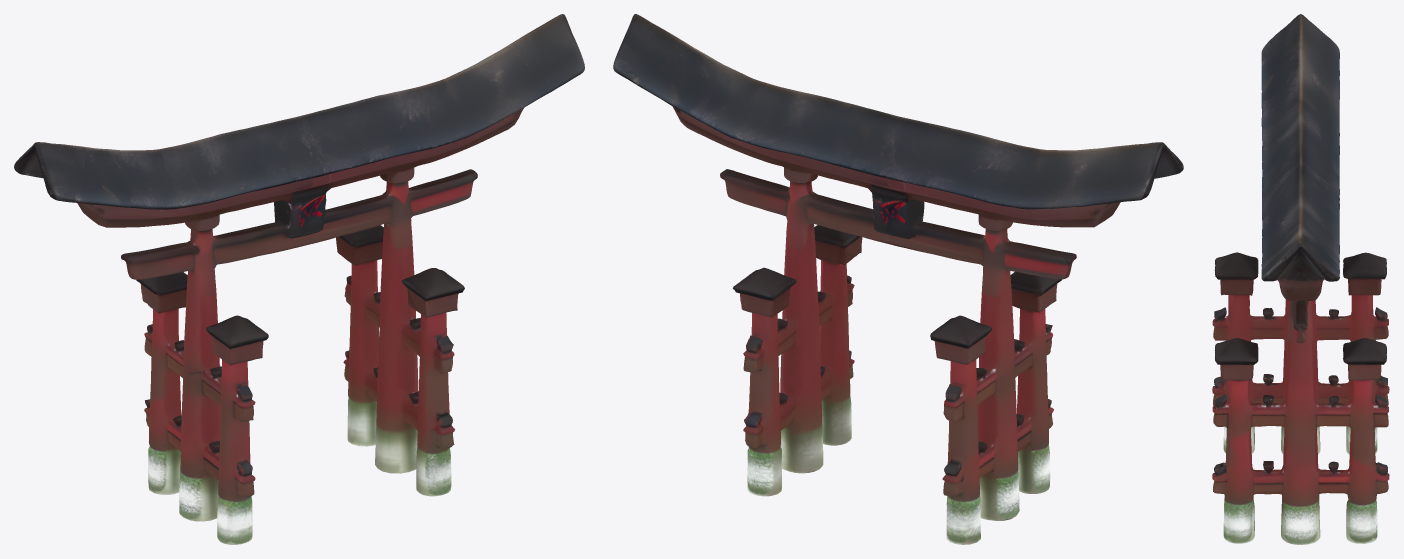
Rendered from base_basic_shaded.fbx.
The picture shows the model from 3 angles, left to right: view 1: azimuth 30°, elevation 25°; view 2: azimuth 150°, elevation 25°; view 3: azimuth 270°, elevation 25°; orthographic projection. The views are drawn at different scales.
Parts seen in each view (by area): view 1: model; view 2: model; view 3: model.
Boxes of the visible parts, box(x1,y1,x2,y2) form: model: box(14, 14, 584, 544); model: box(613, 14, 1183, 544); model: box(1212, 14, 1389, 544).
Bounding box in the file's own units: 187 × 138 × 60.34.
